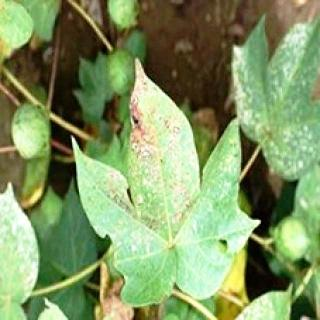grey mildew: (84, 61, 224, 237), (229, 25, 320, 173)
